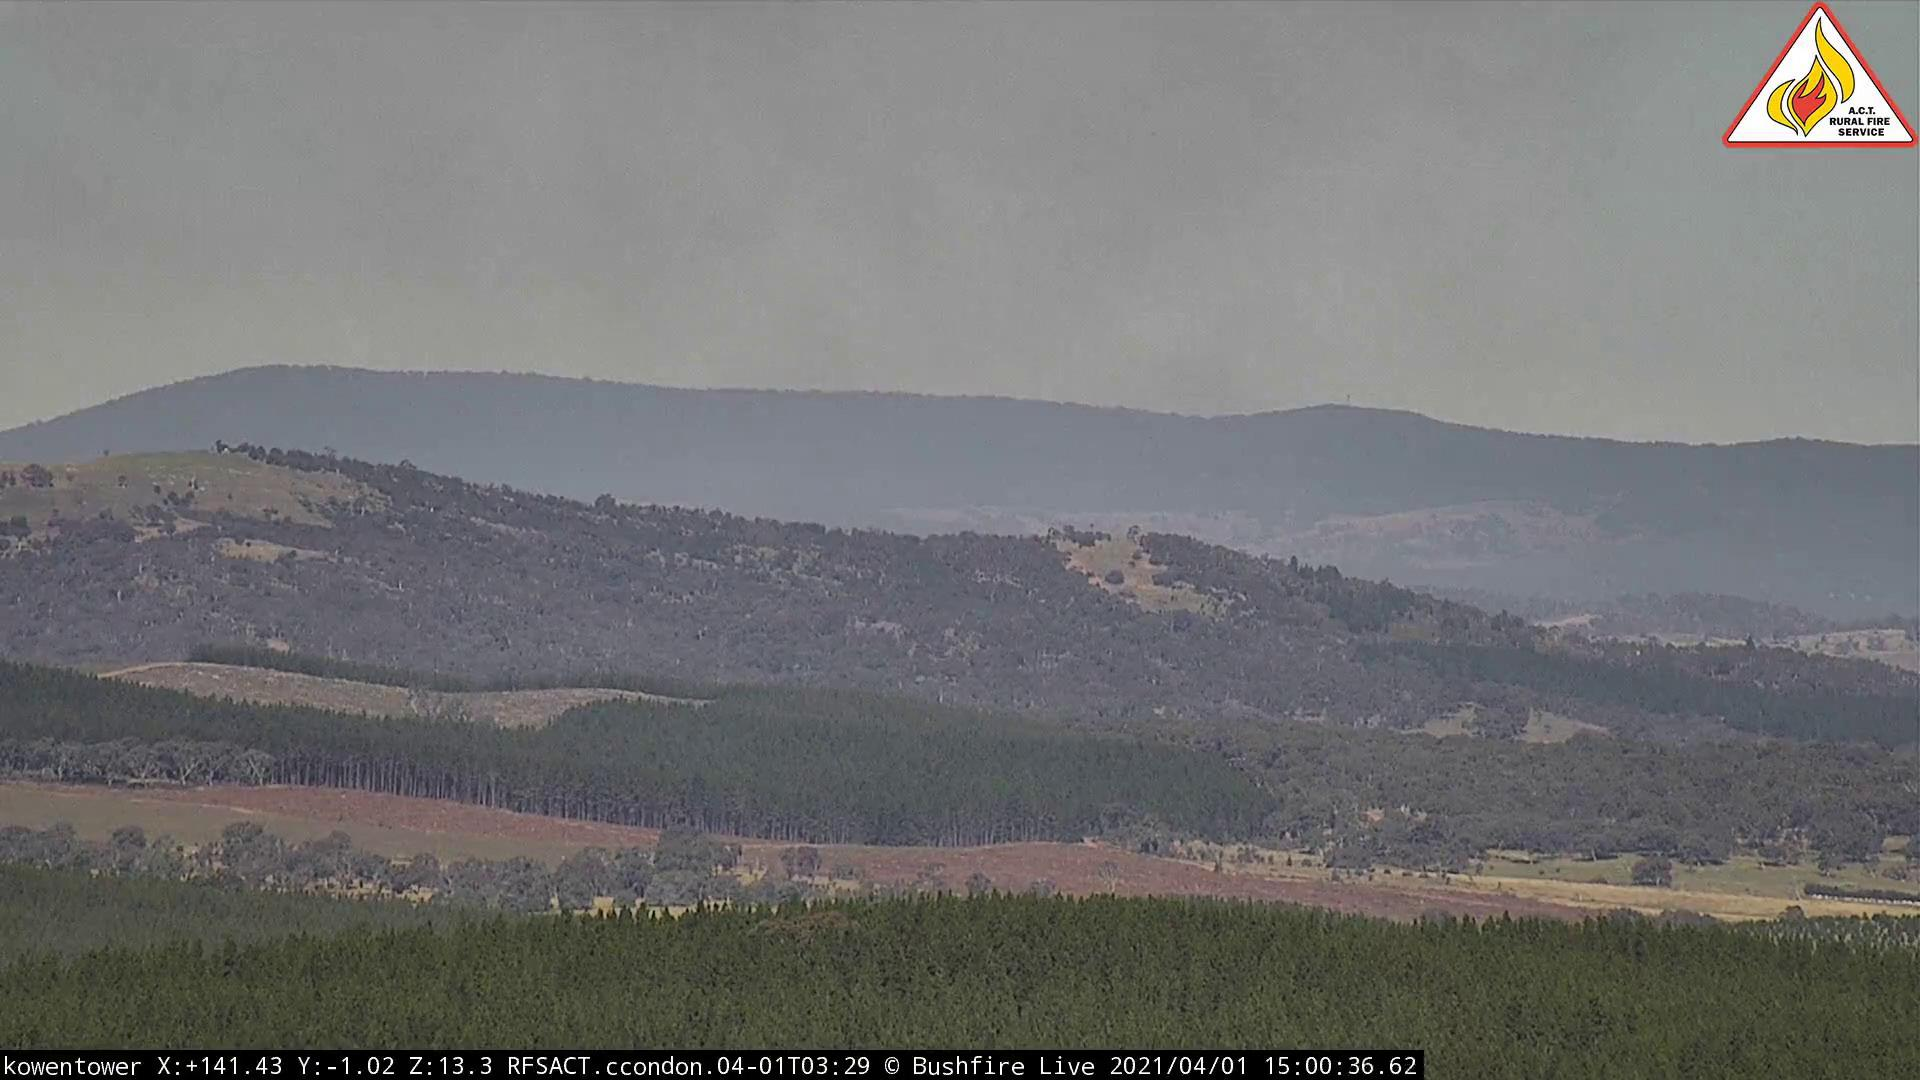Smoke: (426, 3, 1519, 450)
